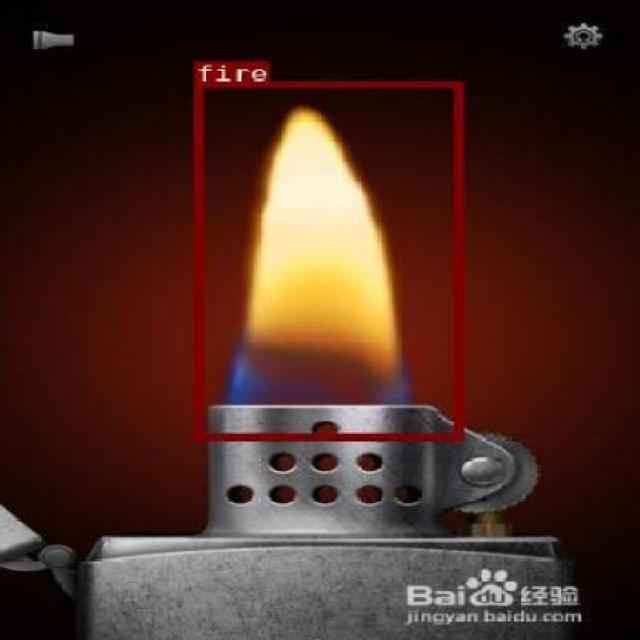fire: (193, 80, 462, 438)
